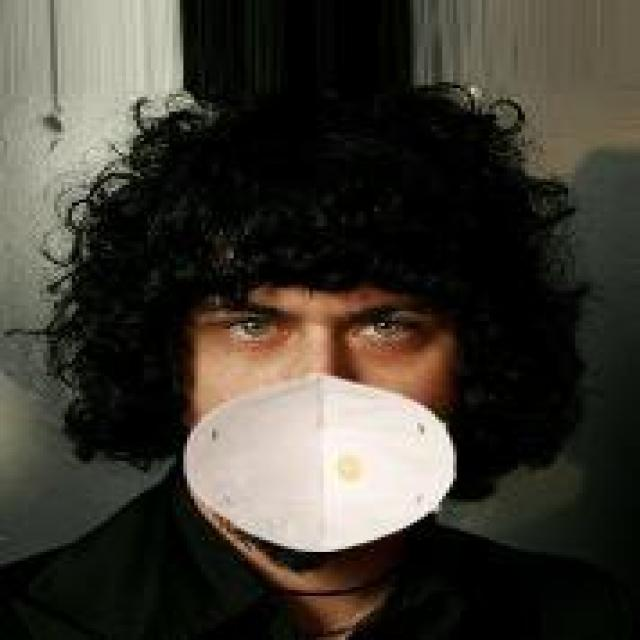mask: (155, 226, 514, 596)
